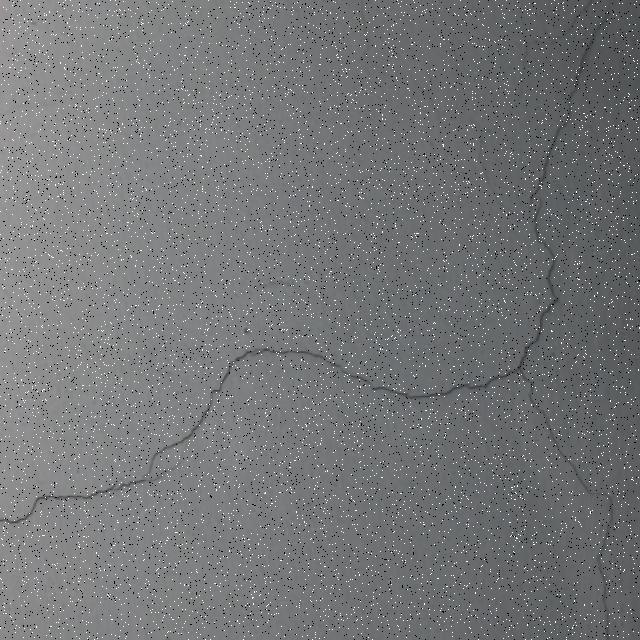minor crack: (520, 1, 609, 238), (4, 492, 72, 524), (207, 352, 255, 393), (366, 381, 422, 396)
moderate crack: (2, 396, 214, 524), (218, 331, 542, 404), (531, 378, 595, 492), (518, 229, 562, 372), (594, 471, 619, 632)
severe crack: (11, 2, 622, 535)
